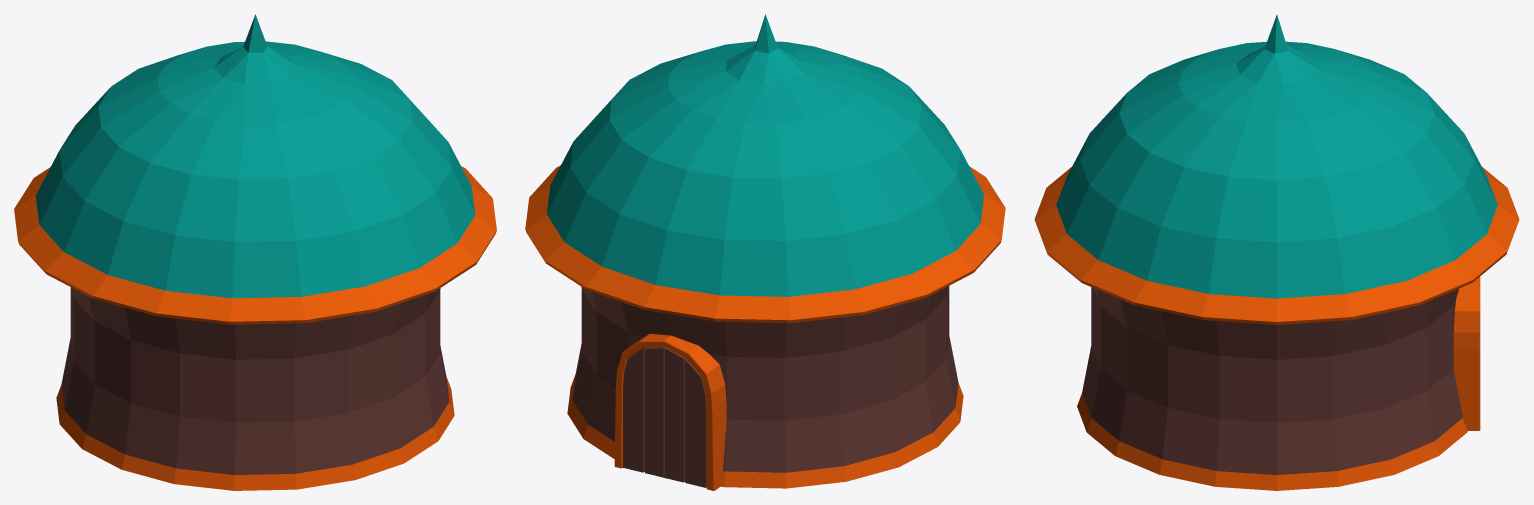
The model's file is GEO_hut_round.fbx.
3 renders of one model, left to right at view 1: azimuth 30°, elevation 25°; view 2: azimuth 150°, elevation 25°; view 3: azimuth 270°, elevation 25°, orthographic.
Visible parts, largest first — view 1: GEO_hut_round; view 2: GEO_hut_round, GEO_door_, GEO_door_rim; view 3: GEO_hut_round, GEO_door_rim.
Part boxes in pixels (x1,y1,x2,y2): GEO_hut_round: [14, 14, 496, 490]; GEO_hut_round: [525, 14, 1005, 488]; GEO_door_: [623, 347, 706, 487]; GEO_door_rim: [614, 333, 726, 490]; GEO_hut_round: [1034, 14, 1519, 490]; GEO_door_rim: [1453, 276, 1480, 430].
Bounding box in the file's own units: 657 × 586 × 657.
